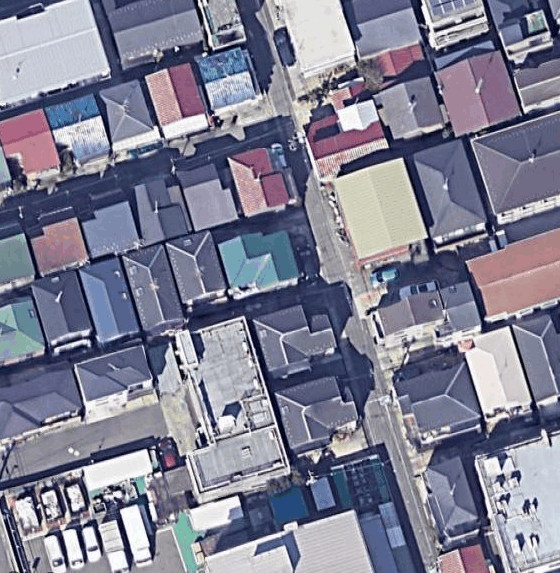rooftop: (147, 302, 297, 500)
